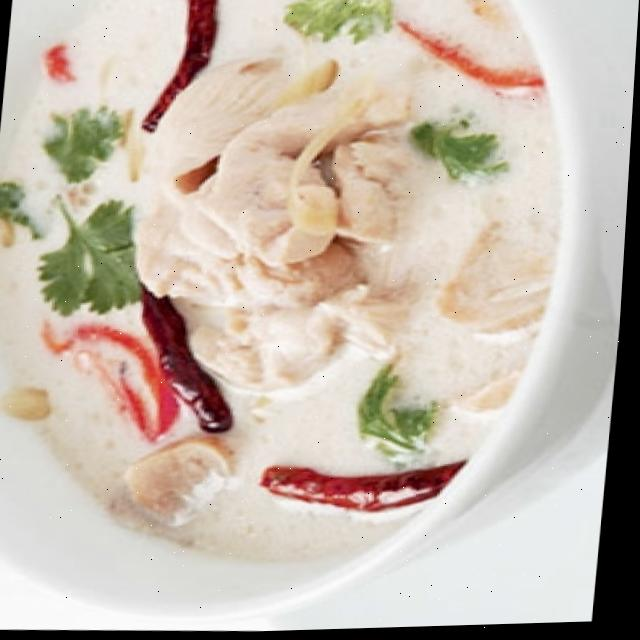汤锅炖物: (0, 1, 617, 640)
